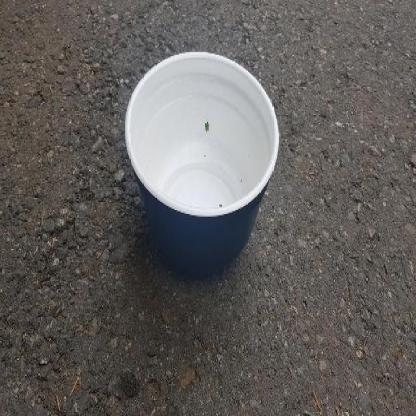Glass Cup: (124, 50, 280, 274), (125, 52, 279, 274)
